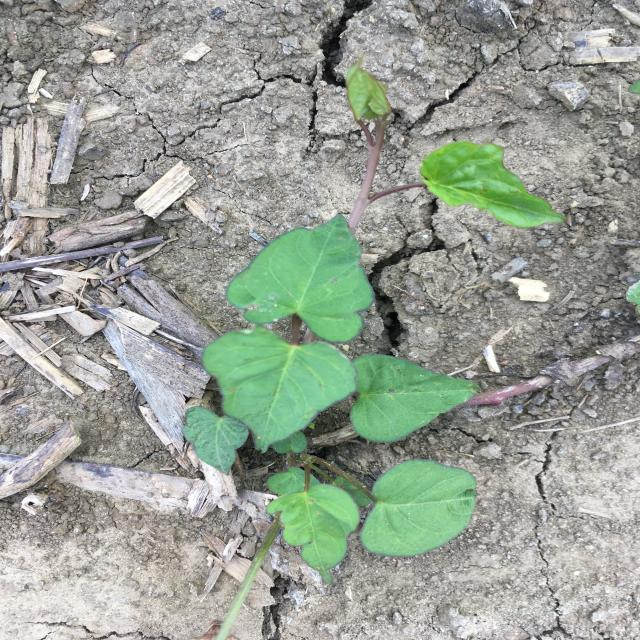MorningGlory: (182, 50, 568, 585)
